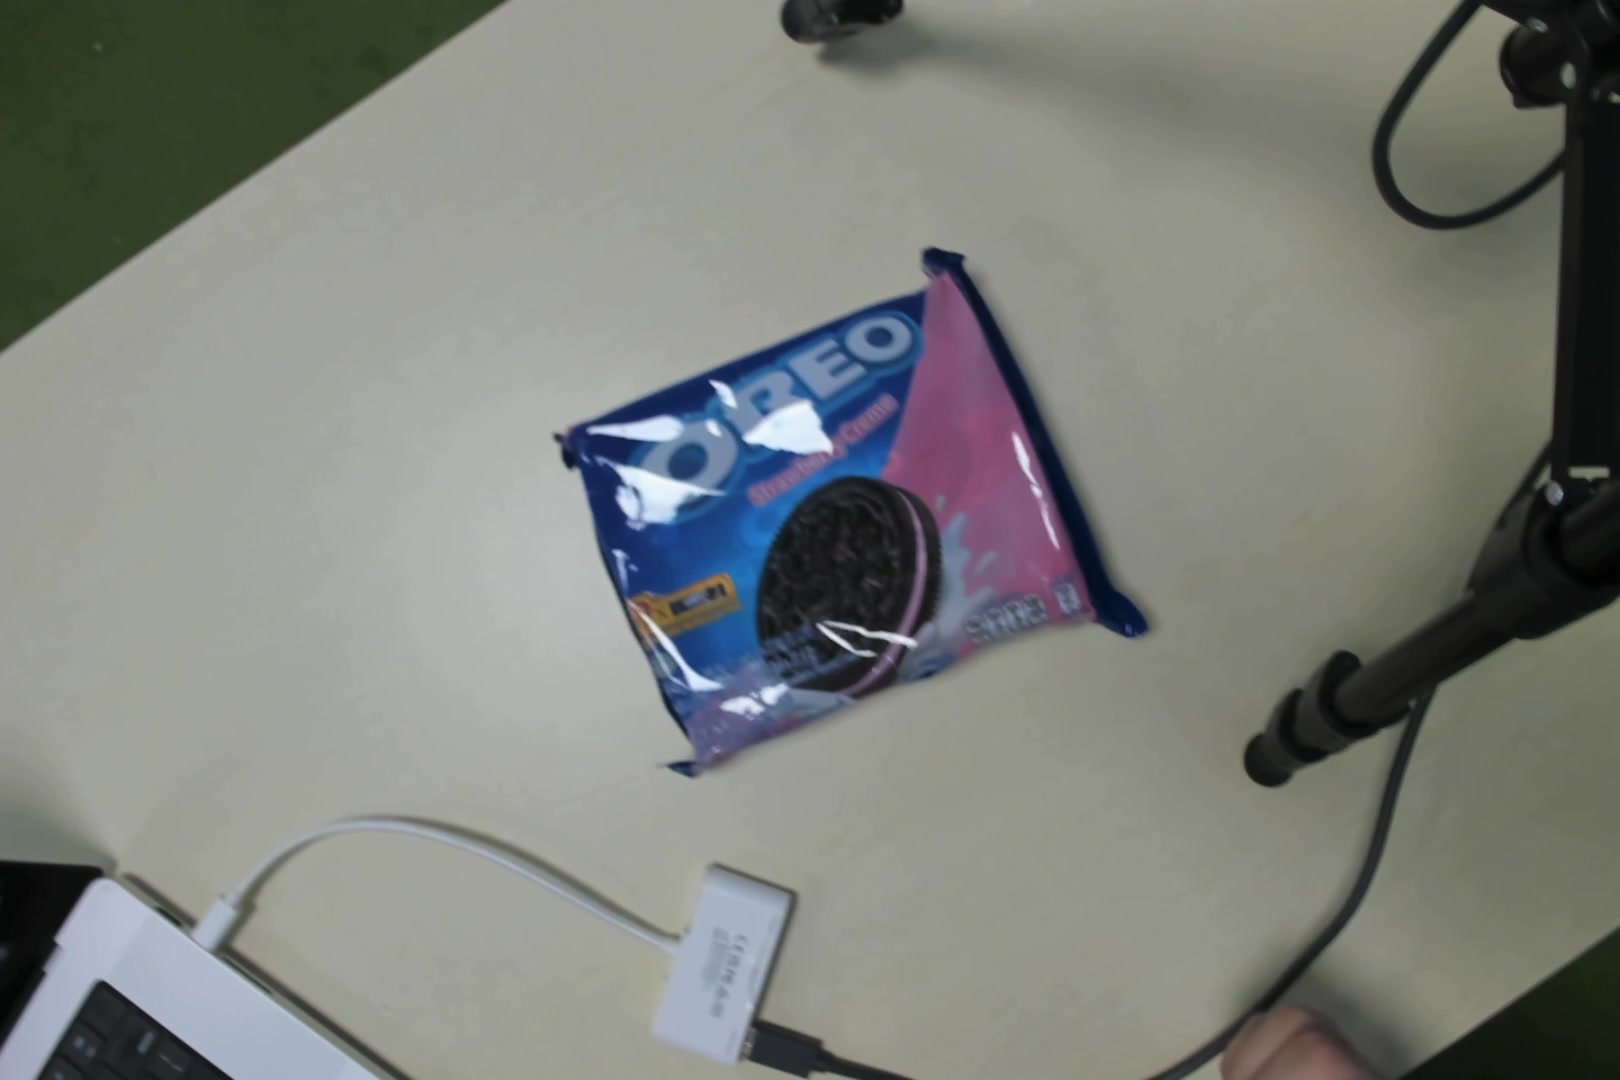SweetsChocolatesOthers_200-299g_Halal_NonHealthy: (622, 304, 1063, 715)
